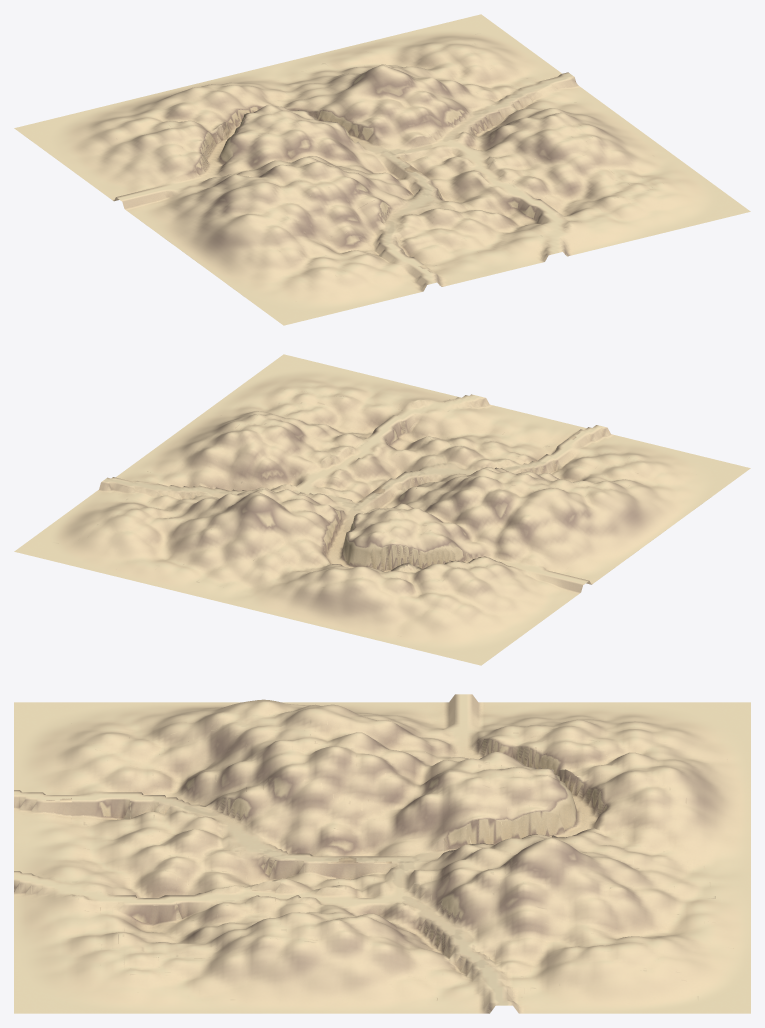
The model's file is desert.glb.
The picture shows the model from 3 angles, top to bottom: view 1: azimuth 30°, elevation 25°; view 2: azimuth 150°, elevation 25°; view 3: azimuth 270°, elevation 25°; orthographic projection. The views are drawn at different scales.
Visible parts, largest first — view 1: Landscape; view 2: Landscape; view 3: Landscape.
Boxes of the visible parts, x1,y1,x2,y2 form: Landscape: [14, 14, 750, 325]; Landscape: [14, 354, 750, 665]; Landscape: [14, 694, 750, 1013].
Size of the model in its own units: 200 by 20.84 by 200.
Materials: 1 (1 with a texture image).
